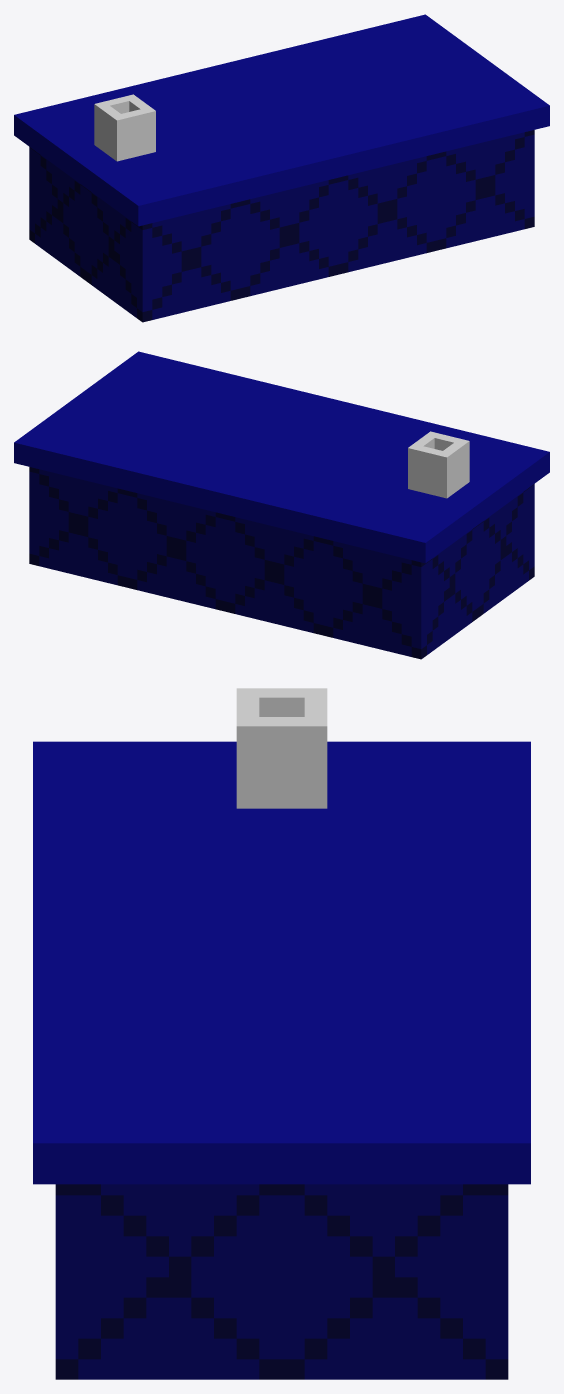
File: bar.obj
3 views of the same model, one above another, from view 1: azimuth 30°, elevation 25°; view 2: azimuth 150°, elevation 25°; view 3: azimuth 270°, elevation 25° (orthographic). The views are drawn at different scales.
Size of the model in its own units: 4.2 by 1.6 by 2.2.
1 material, 1 textured.
